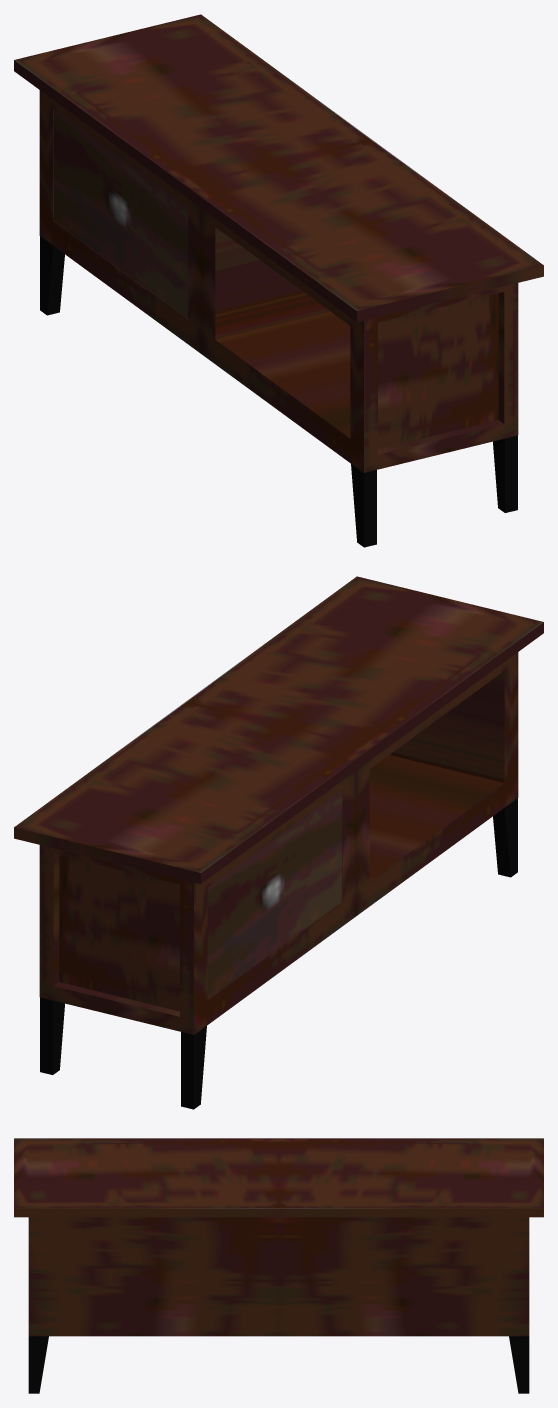
The model's file is TVStand.fbx.
3 views of the same model, one above another, from view 1: azimuth 30°, elevation 25°; view 2: azimuth 150°, elevation 25°; view 3: azimuth 270°, elevation 25° (orthographic). The views are drawn at different scales.
Visible parts, largest first — view 1: TVStand, TVStandDrawers; view 2: TVStand, TVStandDrawers; view 3: TVStand.
Boxes of the visible parts, x1,y1,x2,y2 form: TVStand: (14, 14, 543, 547); TVStandDrawers: (54, 109, 188, 318); TVStand: (14, 576, 543, 1109); TVStandDrawers: (207, 790, 342, 999); TVStand: (14, 1138, 543, 1393).
Bounding box in the file's own units: 242 × 306 × 769.
